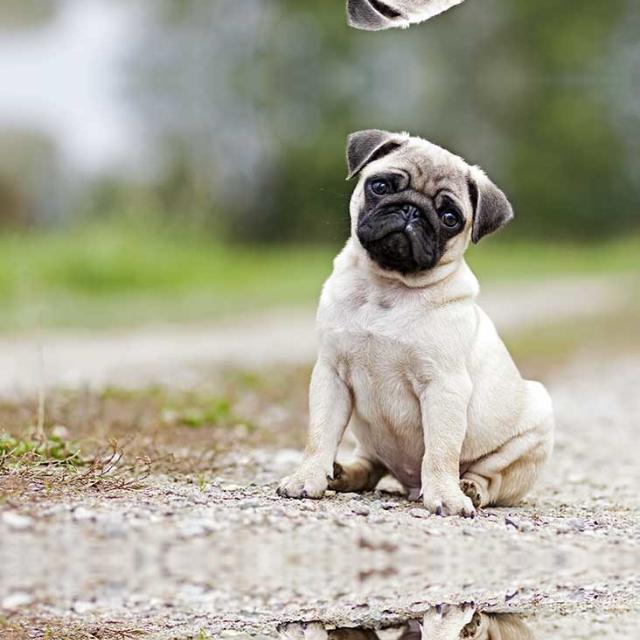dog: (252, 114, 572, 522), (251, 0, 572, 46), (251, 597, 572, 640)
